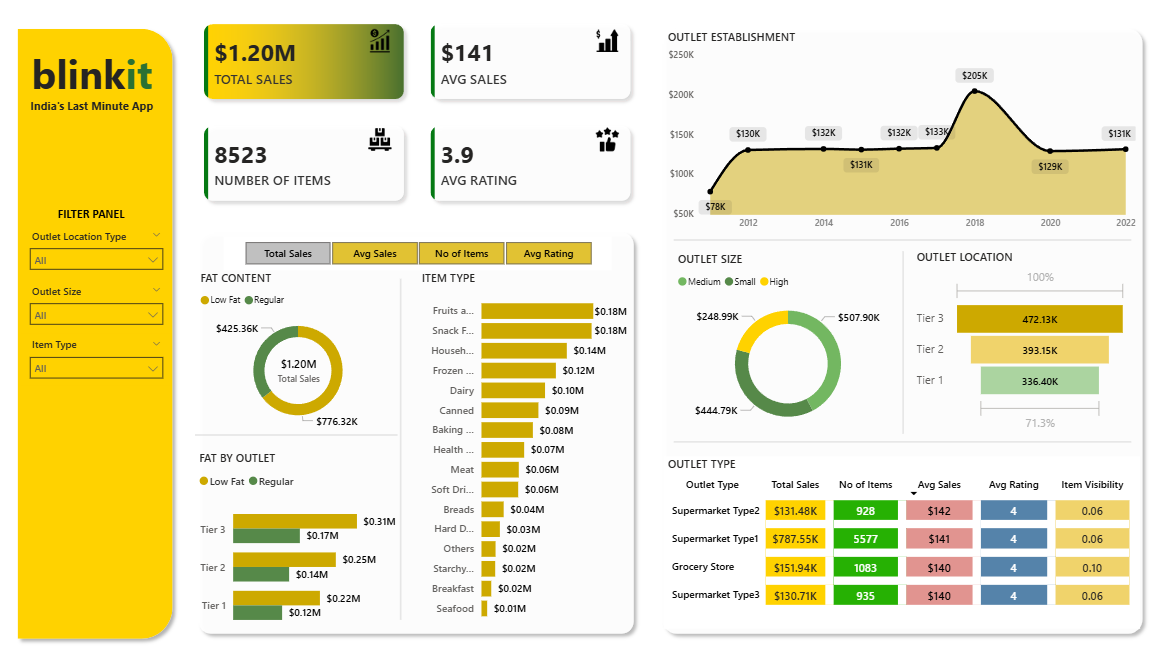

The page's visual inventory and layout, read from the dashboard file:
{"tool":"powerbi","page":{"name":"Page 1","canvas":[1400,800],"ordinal":0},"visuals":[{"type":"shape","box":[12,25.5,204.1,750.4],"z":0},{"type":"textbox","box":[25.5,49.5,169.6,78],"z":1000},{"type":"textbox","box":[25.5,112.6,169.6,28.5],"z":2000},{"type":"cardVisual","fields":{"Data":["BlinkIT Grocery Data.Total Sales","BlinkIT Grocery Data.Avg Sales","BlinkIT Grocery Data.No of Items","BlinkIT Grocery Data.Avg Rating"]},"box":[216.1,0,570.3,270.2],"z":3000},{"type":"image","box":[439.8,34.5,33,28.5],"z":4000},{"type":"image","box":[712.9,34.5,33,28.5],"z":5000},{"type":"image","box":[712.9,153.1,33,28.5],"z":6000},{"type":"image","box":[439.8,153.1,33,28.5],"z":7000},{"type":"shape","box":[229.6,270.2,540.3,499.8],"z":8000},{"type":"donutChart","title":"FAT CONTENT","fields":{"Y":["BlinkIT Grocery Data.Total Sales"],"Category":["BlinkIT Grocery Data.Item Fat Content"]},"box":[235.6,324.2,244.6,196.6],"z":9000},{"type":"slicer","fields":{"Values":["Metrics.Metrics"]},"box":[268.7,283.7,465.3,40.5],"z":10000},{"type":"cardVisual","fields":{"Data":["BlinkIT Grocery Data.Total Sales"]},"box":[298.7,411.2,120.1,66],"z":11000},{"type":"clusteredBarChart","title":"FAT BY OUTLET","fields":{"Y":["BlinkIT Grocery Data.Total Sales"],"Category":["BlinkIT Grocery Data.Outlet Location Type"],"Series":["BlinkIT Grocery Data.Item Fat Content"]},"box":[234.1,540.3,246.1,229.6],"z":12000},{"type":"shape","box":[234.1,505.8,243.1,33],"z":13000},{"type":"shape","box":[457.8,334.7,46.5,409.7],"z":14000},{"type":"barChart","title":"ITEM TYPE","fields":{"Y":["BlinkIT Grocery Data.Total Sales"],"Category":["BlinkIT Grocery Data.Item Type"]},"box":[501.3,324.2,256.6,430.7],"z":15000},{"type":"shape","box":[786.5,25.5,594.3,744.4],"z":16000},{"type":"lineChart","title":"OUTLET ESTABLISHMENT","fields":{"Y":["BlinkIT Grocery Data.Total Sales"],"Category":["BlinkIT Grocery Data.Outlet Establishment Year"]},"box":[797,34.5,571.8,250.6],"z":17000},{"type":"shape","box":[809,271.7,549.3,33],"z":18000},{"type":"donutChart","title":"OUTLET SIZE","fields":{"Y":["BlinkIT Grocery Data.Total Sales"],"Category":["BlinkIT Grocery Data.Outlet Size"]},"box":[809,301.7,274.7,225.1],"z":19000},{"type":"shape","box":[1065.6,301.7,37.5,219.1],"z":20000},{"type":"funnel","title":"OUTLET LOCATION","fields":{"Y":["Sum(BlinkIT Grocery Data.Sales)"],"Category":["BlinkIT Grocery Data.Outlet Location Type"]},"box":[1095.6,298.7,262.7,225.1],"z":21000},{"type":"shape","box":[809,522.3,549.3,16.5],"z":22000},{"type":"pivotTable","title":"OUTLET TYPE","fields":{"Rows":["BlinkIT Grocery Data.Outlet Type"],"Values":["BlinkIT Grocery Data.Total Sales","BlinkIT Grocery Data.No of Items","BlinkIT Grocery Data.Avg Sales","BlinkIT Grocery Data.Avg Rating","Avg(BlinkIT Grocery Data.Item Visibility)"]},"box":[797,547.8,571.8,207.1],"z":23000},{"type":"slicer","fields":{"Values":["BlinkIT Grocery Data.Outlet Location Type"]},"box":[25.5,270.2,180.1,64.5],"z":24000},{"type":"slicer","fields":{"Values":["BlinkIT Grocery Data.Outlet Size"]},"box":[25.5,336.2,180.1,64.5],"z":25000},{"type":"slicer","fields":{"Values":["BlinkIT Grocery Data.Item Type"]},"box":[25.5,400.7,180.1,61.5],"z":26000},{"type":"textbox","box":[58.5,243.1,102.1,28.5],"z":27000}]}

Visuals, with their boxes in screenshot pixels (x1, y1, x2, y2), scaled from the page's 1400x800 canvas onto the 1162x658 screenshot:
shape: bbox=[10, 21, 179, 638]
textbox: bbox=[21, 41, 162, 105]
textbox: bbox=[21, 93, 162, 116]
cardVisual - BlinkIT Grocery Data.Total Sales x BlinkIT Grocery Data.Avg Sales: bbox=[179, 0, 653, 222]
image: bbox=[365, 28, 392, 52]
image: bbox=[592, 28, 619, 52]
image: bbox=[592, 126, 619, 149]
image: bbox=[365, 126, 392, 149]
shape: bbox=[191, 222, 639, 633]
"FAT CONTENT" donutChart: bbox=[196, 267, 399, 428]
slicer - Metrics.Metrics: bbox=[223, 233, 609, 267]
cardVisual - BlinkIT Grocery Data.Total Sales: bbox=[248, 338, 348, 392]
"FAT BY OUTLET" clusteredBarChart: bbox=[194, 444, 399, 633]
shape: bbox=[194, 416, 396, 443]
shape: bbox=[380, 275, 419, 612]
"ITEM TYPE" barChart: bbox=[416, 267, 629, 621]
shape: bbox=[653, 21, 1146, 633]
"OUTLET ESTABLISHMENT" lineChart: bbox=[662, 28, 1136, 234]
shape: bbox=[671, 223, 1127, 251]
"OUTLET SIZE" donutChart: bbox=[671, 248, 899, 433]
shape: bbox=[884, 248, 916, 428]
"OUTLET LOCATION" funnel: bbox=[909, 246, 1127, 431]
shape: bbox=[671, 430, 1127, 443]
"OUTLET TYPE" pivotTable: bbox=[662, 451, 1136, 621]
slicer - BlinkIT Grocery Data.Outlet Location Type: bbox=[21, 222, 171, 275]
slicer - BlinkIT Grocery Data.Outlet Size: bbox=[21, 277, 171, 330]
slicer - BlinkIT Grocery Data.Item Type: bbox=[21, 330, 171, 380]
textbox: bbox=[49, 200, 133, 223]
